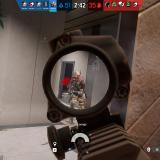Character: (66, 70, 86, 125)
Friend_label: (90, 56, 103, 61), (40, 36, 50, 42)
Head: (72, 71, 80, 82)
